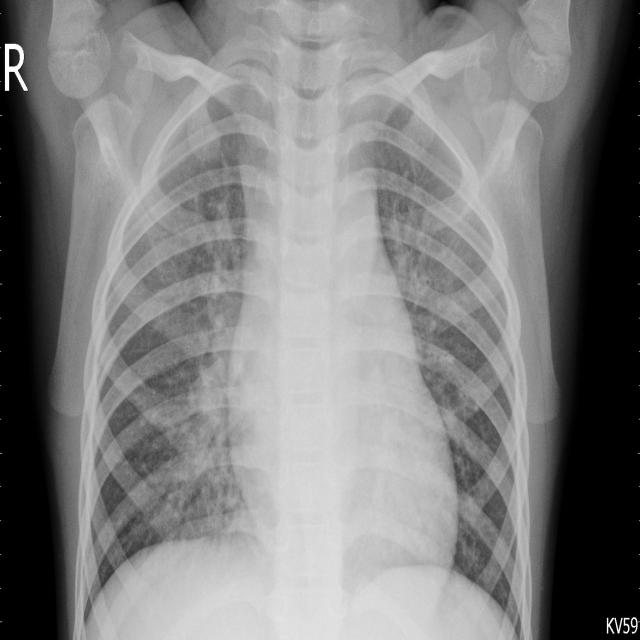viral_pneumonia: (3, 0, 640, 640)
